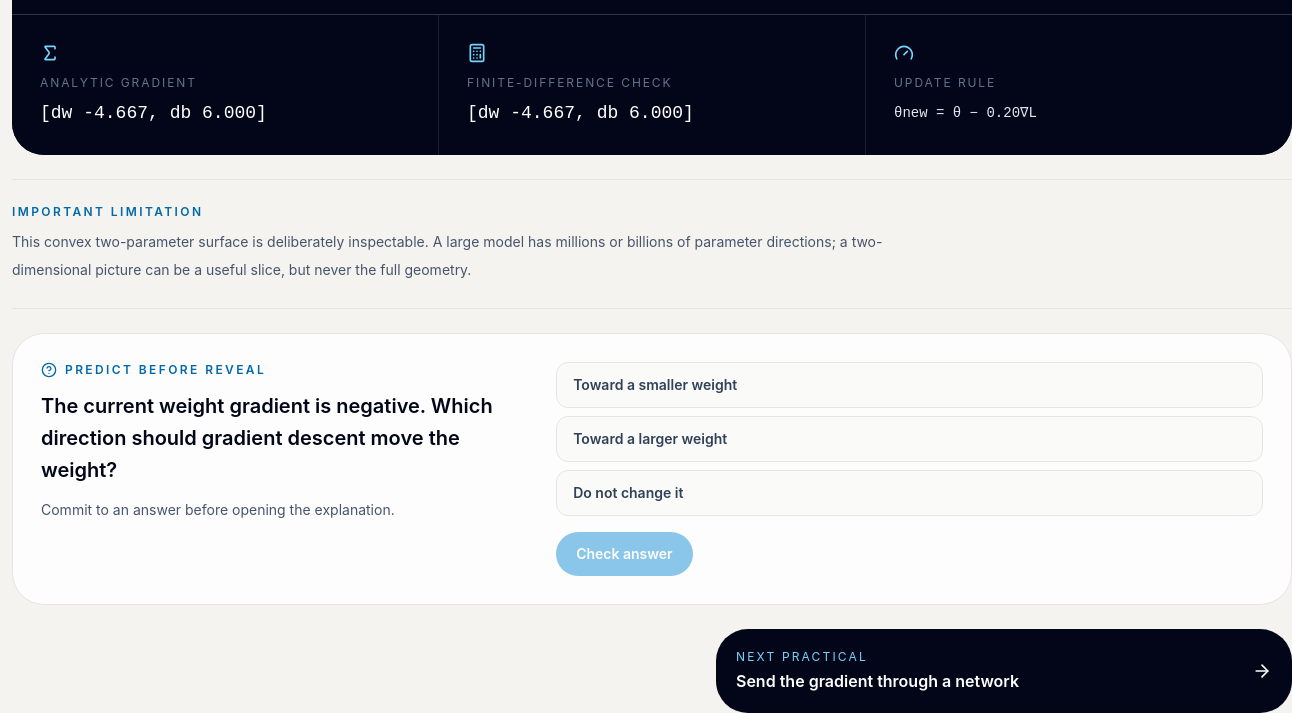
GradientDescentLabPage › includes the prediction checkpoint and next practical handoff
The image size is (1292, 713).
(page scrolled)
Click the button with test id "gradient-direction-choice-up". click: (650, 438)
box: top-left (556, 416), bottom-right (1263, 462)
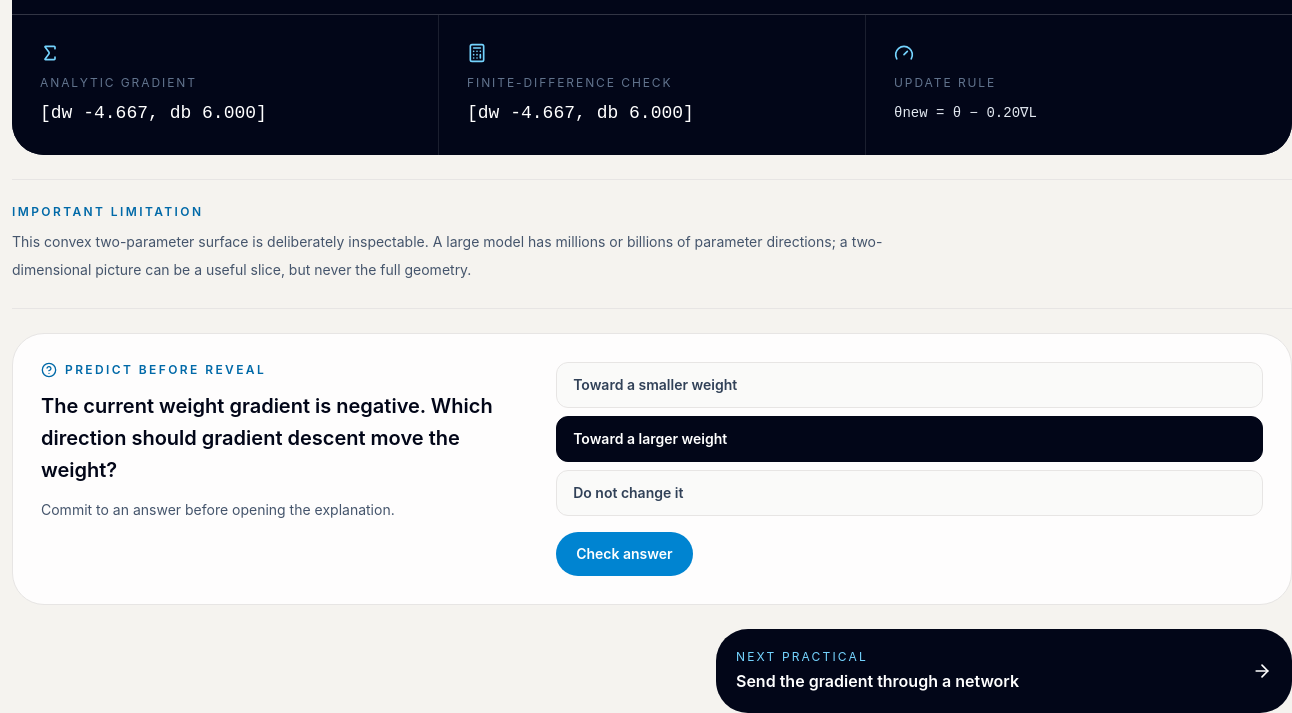
Click the button with test id "gradient-direction-check". click: (624, 554)
box: top-left (556, 532), bottom-right (693, 576)
(page scrolled)
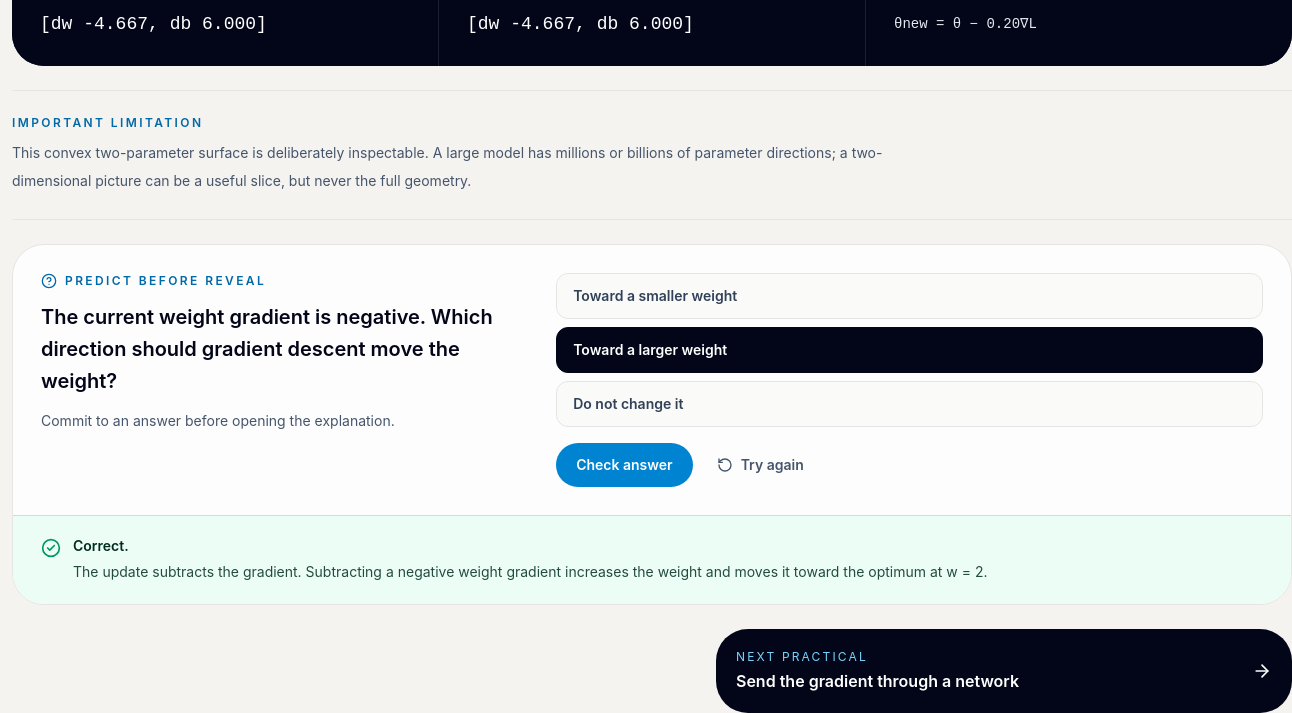
Now the message with test id "gradient-direction-feedback" shows "Correct", box top-left (73, 537), bottom-right (129, 554)
